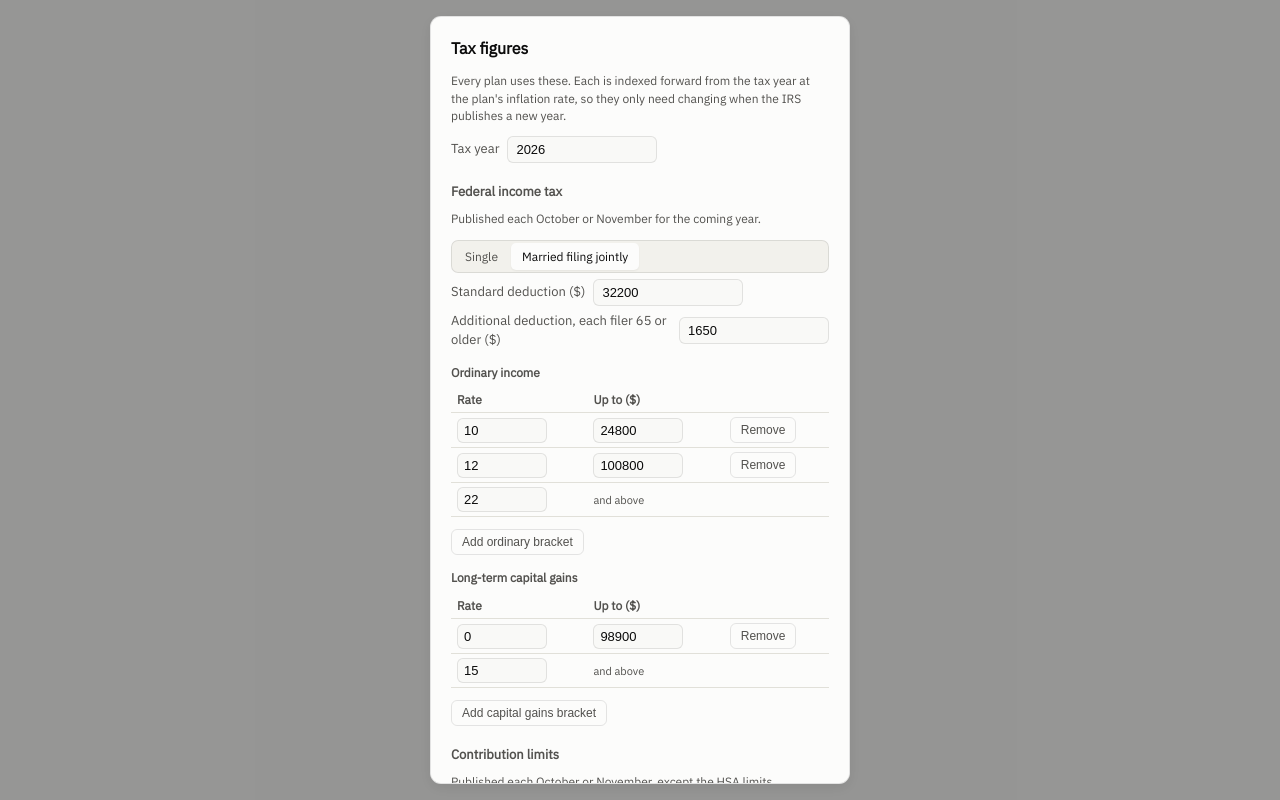
TaxFiguresEditor › shows each filing status's own schedule
Expected: the number field named "Ordinary bracket 1 upper bound" holds "24800", [593,418,683,443]
Click the button "Single" at (482, 256), box [454,243,509,270]
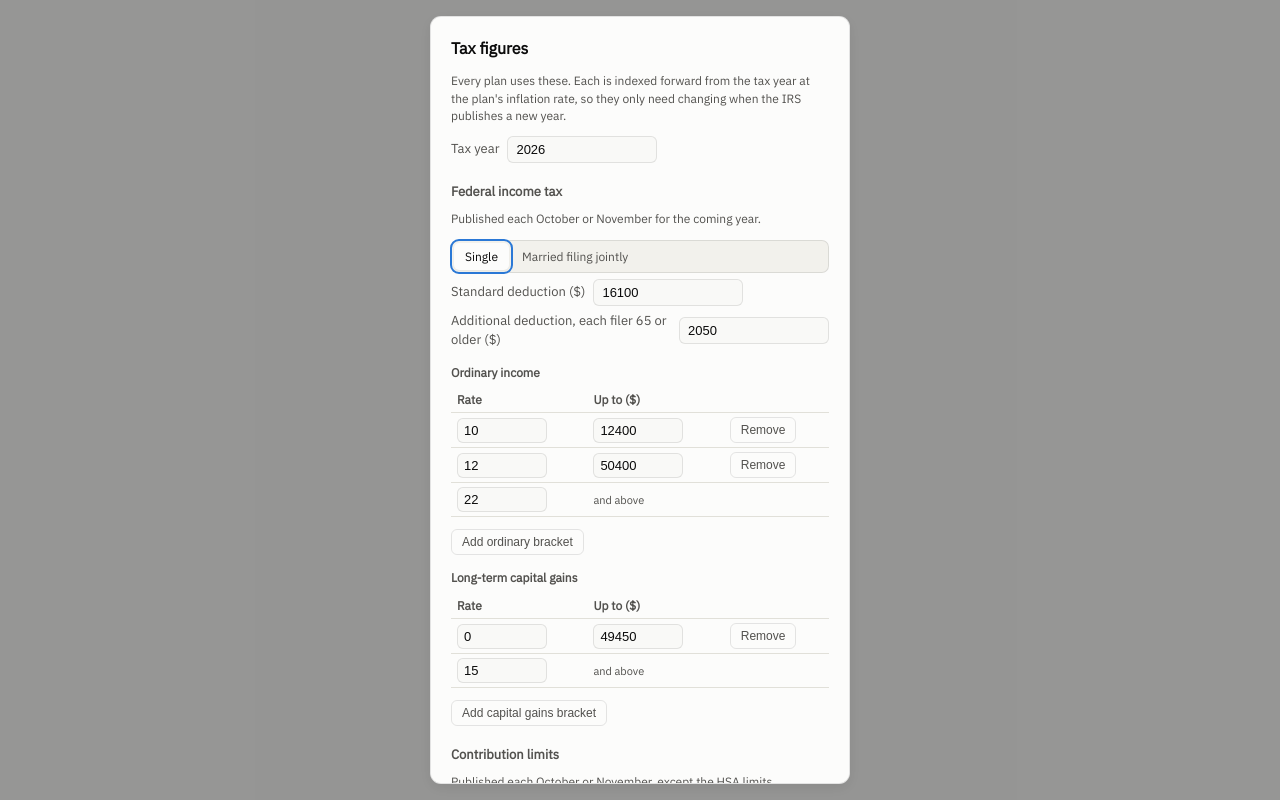
Expected: the number field labelled "Standard deduction ($)" holds "16100", [593,279,743,306]
Expected: the number field labelled "Additional deduction, each filer 65 or older ($)" holds "2050", [679,317,829,344]
Expected: the number field named "Ordinary bracket 1 upper bound" holds "12400", [593,418,683,443]
